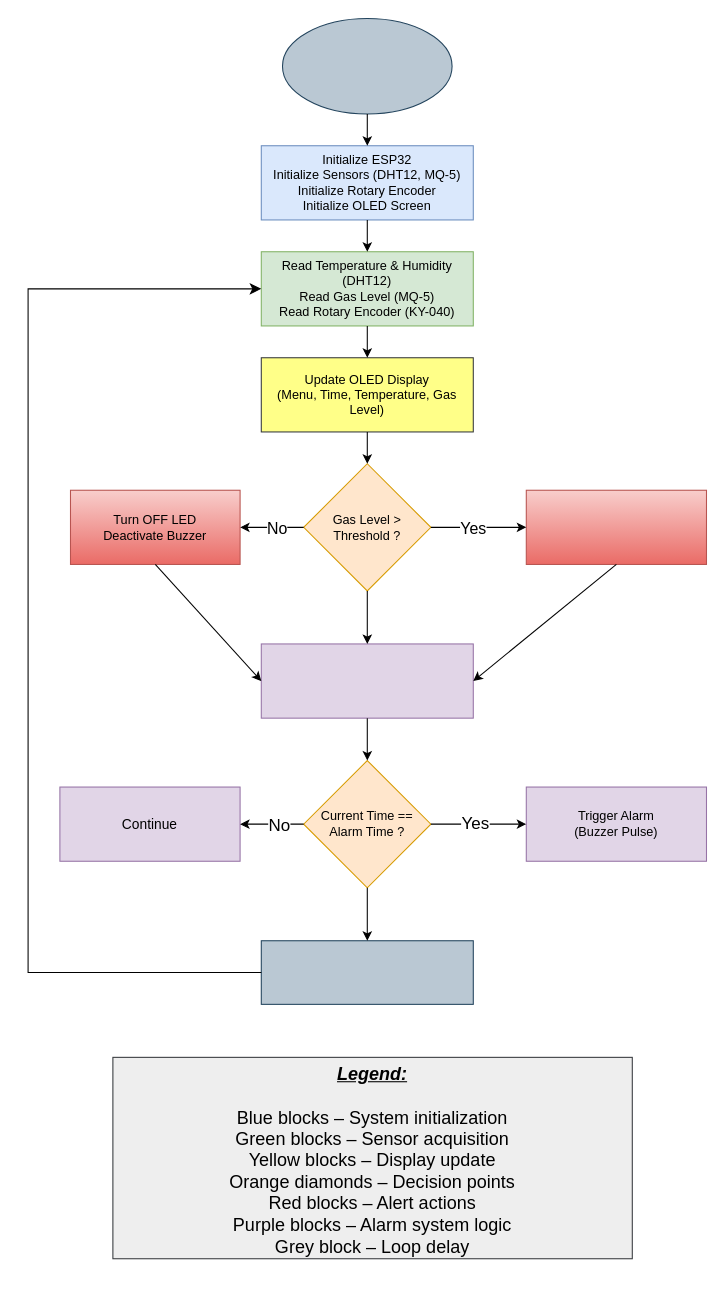
The diagram is 725 pixels wide and 1292 high, and some of its shapes have lost their labels. The shapes that lost their labels are listed below. From the top down, each one's centre as x and y in pixels, then its label:
the point at 366,65: Start
the point at 615,526: Turn ON LED Activate Buzzer
the point at 366,680: Check Alarm Time
the point at 366,972: Delay (0.1s)
